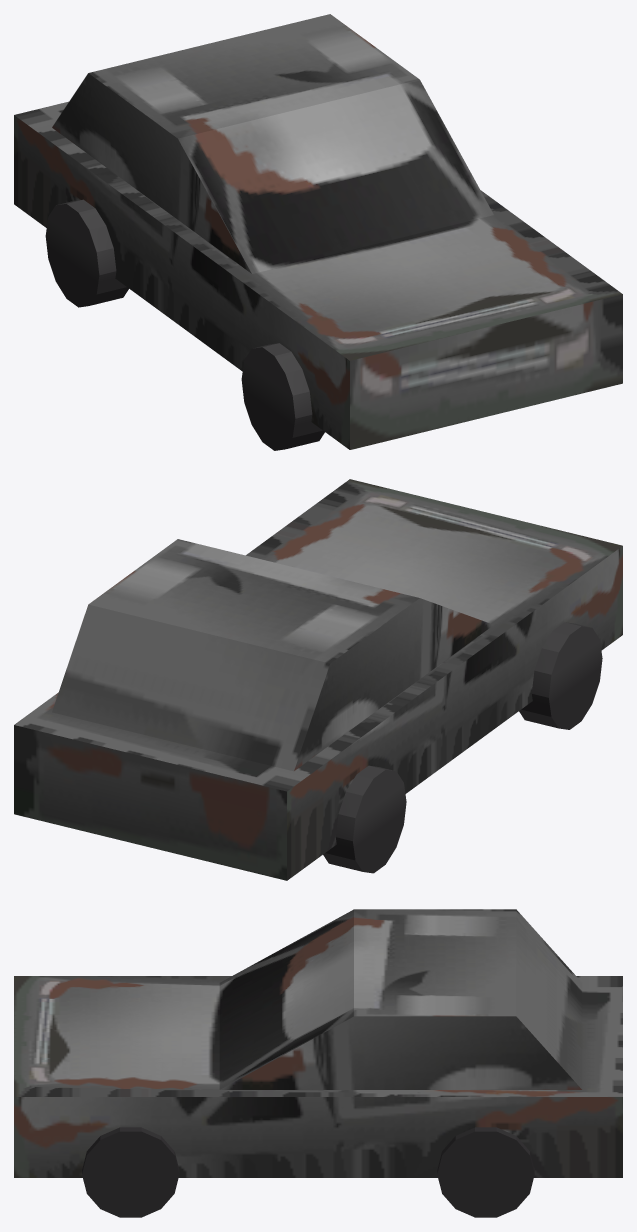
File: Building_AncientRustedCar__E.obj
3 views of the same model, one above another, from view 1: azimuth 30°, elevation 25°; view 2: azimuth 150°, elevation 25°; view 3: azimuth 270°, elevation 25° (orthographic). The views are drawn at different scales.
Parts seen in each view (by area): view 1: Body; view 2: Body; view 3: Body.
Boxes of the visible parts, x1,y1,x2,y2 form: Body: (14,14,622,450); Body: (14,479,622,880); Body: (14,909,622,1217).
Bounding box in the file's own units: 1.93 × 1.29 × 3.75.
Materials: 1 (1 with a texture image).
